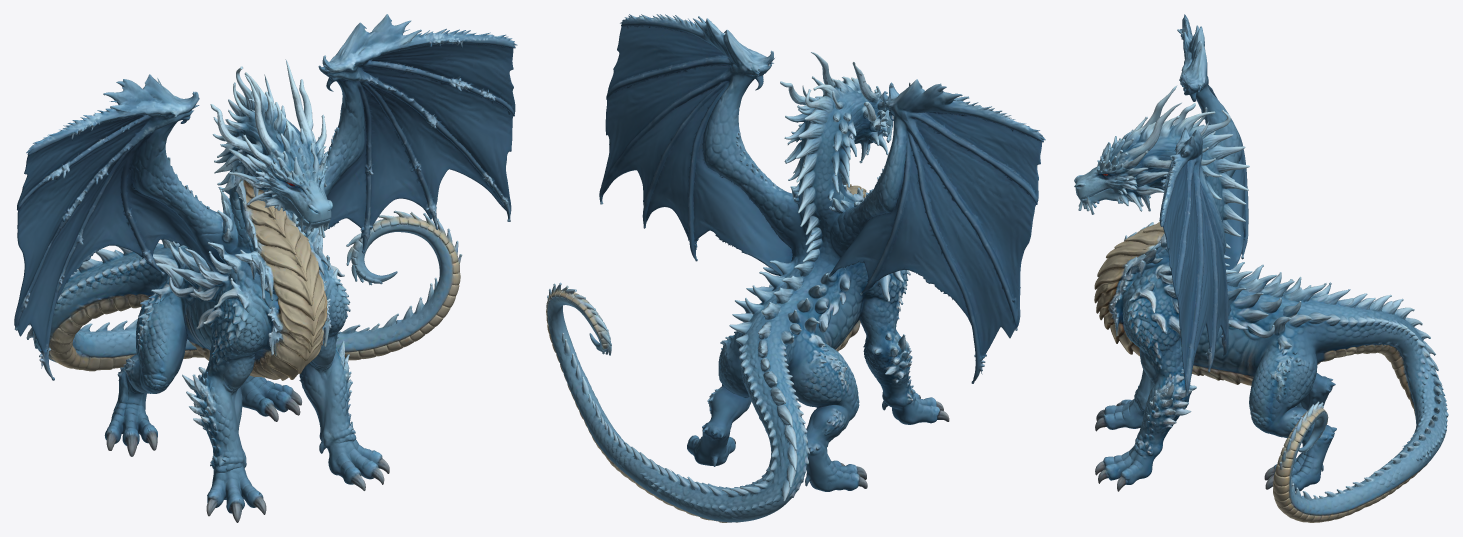
File: frostbite-dragon.glb
The picture shows the model from 3 angles, left to right: view 1: azimuth 30°, elevation 25°; view 2: azimuth 150°, elevation 25°; view 3: azimuth 270°, elevation 25°; orthographic projection. The views are drawn at different scales.
Visible parts, largest first — view 1: tripo_node_07f712ea-fe7f-44ba-bf7a-33447472dd7a; view 2: tripo_node_07f712ea-fe7f-44ba-bf7a-33447472dd7a; view 3: tripo_node_07f712ea-fe7f-44ba-bf7a-33447472dd7a.
Boxes of the visible parts, box(x1,y1,x2,y2) form: tripo_node_07f712ea-fe7f-44ba-bf7a-33447472dd7a: box(14, 14, 517, 522); tripo_node_07f712ea-fe7f-44ba-bf7a-33447472dd7a: box(546, 14, 1045, 522); tripo_node_07f712ea-fe7f-44ba-bf7a-33447472dd7a: box(1074, 14, 1448, 522).
Bounding box in the file's own units: 0.9807 × 0.806 × 0.7289.
Materials: 1 (1 with a texture image).
